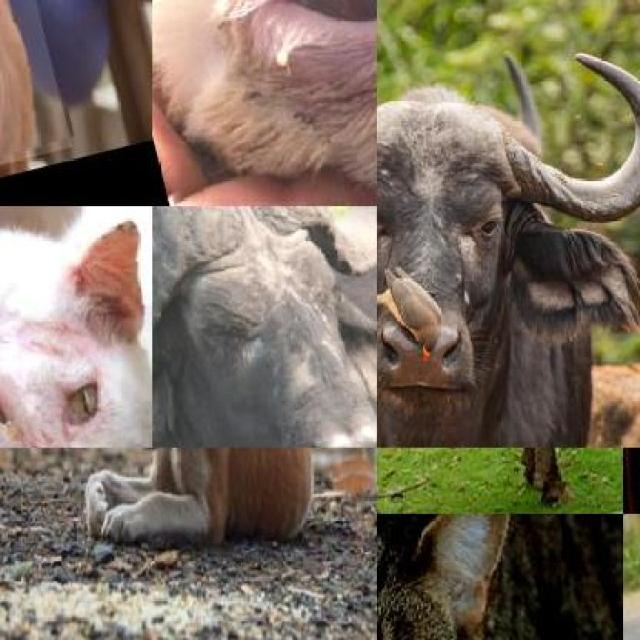buffalo: (377, 37, 640, 448), (152, 206, 377, 448), (377, 448, 623, 514)
cat: (152, 0, 377, 206), (0, 206, 152, 447), (377, 514, 623, 640)
cow: (0, 0, 74, 206)
dog: (109, 448, 305, 549)
injured: (0, 394, 114, 448)
